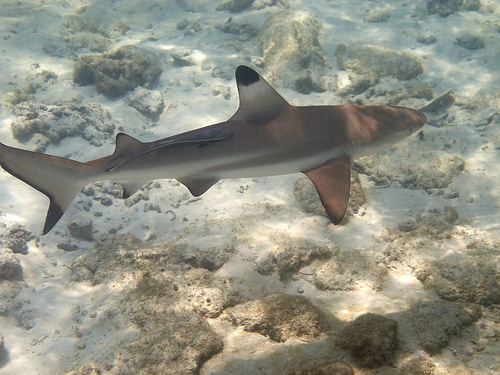shark: (7, 49, 434, 234)
